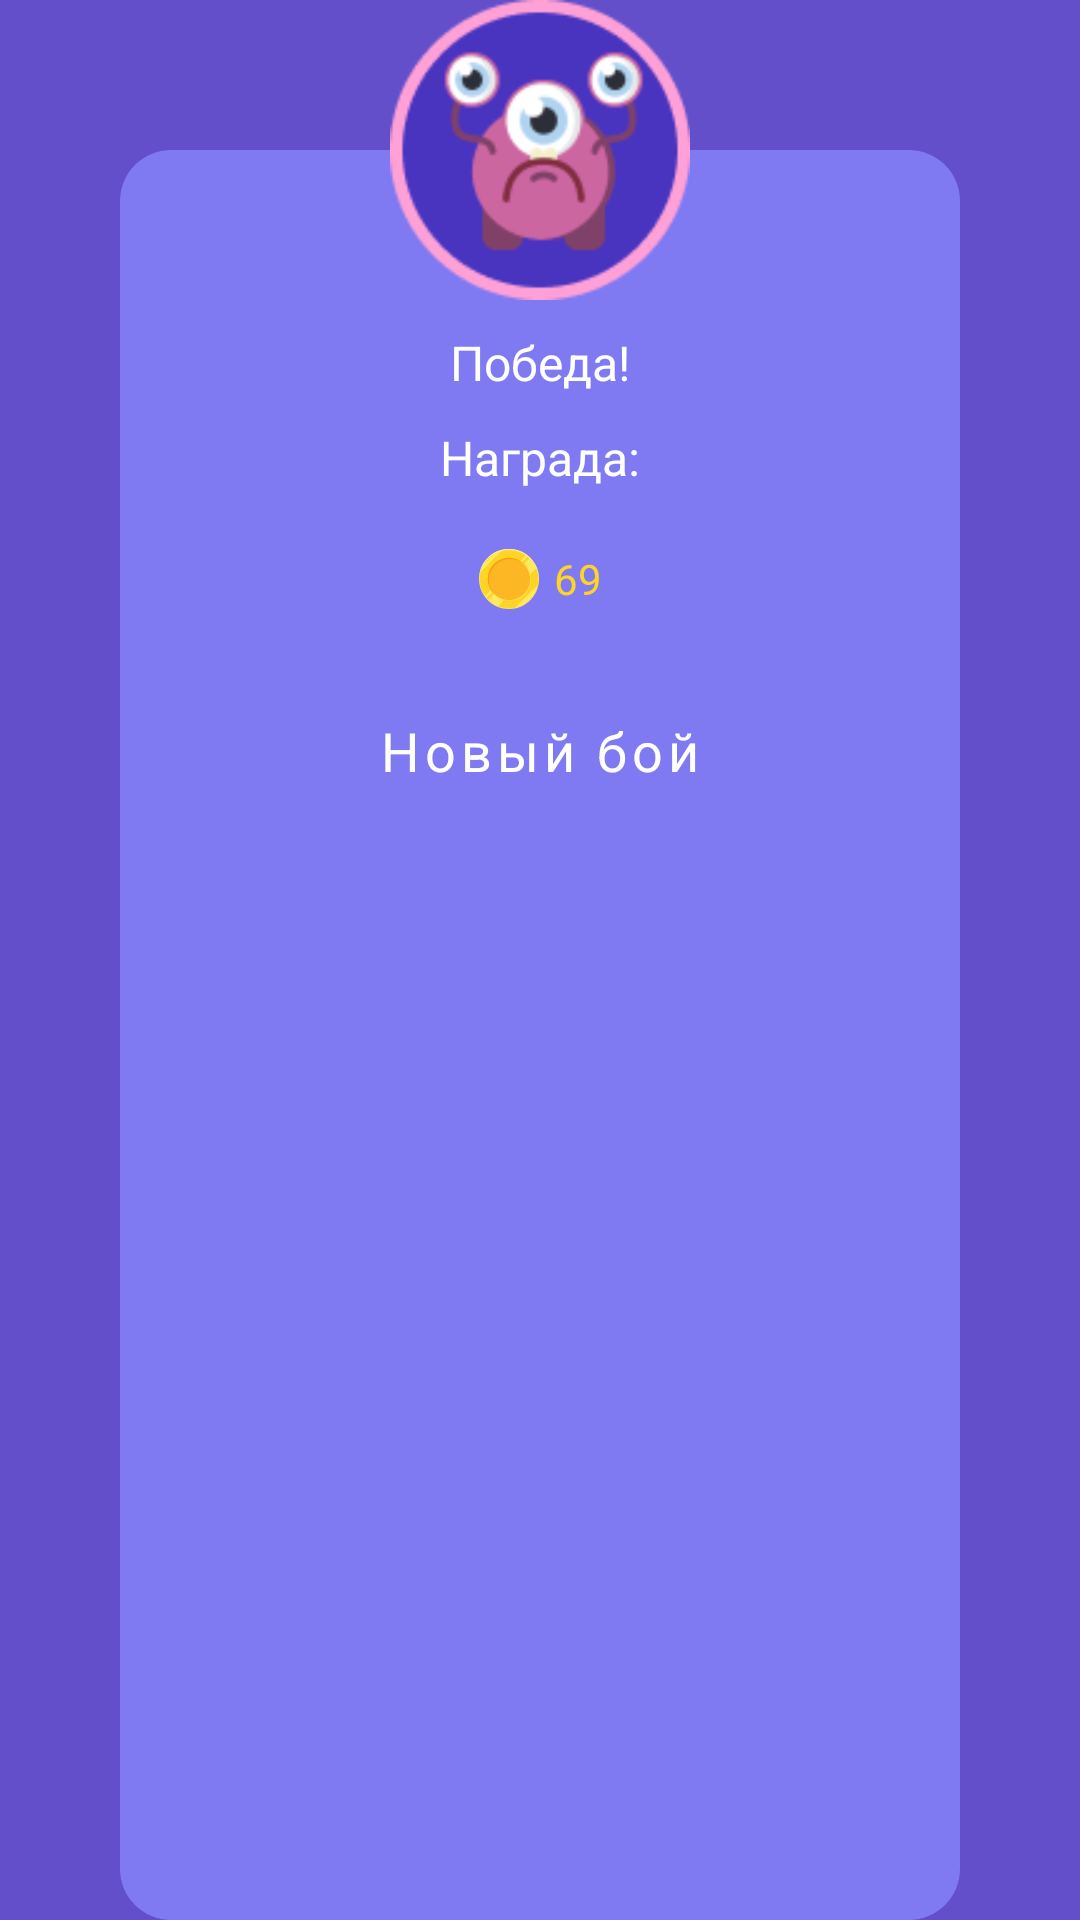

Locate icon controls on the screen. Image size 1080×1920, boxes as [left=x1, top=y1, right=x2, bottom=y2].
pic enemy: [left=390, top=0, right=690, bottom=300]
pic golden coin: [left=479, top=549, right=539, bottom=609]
